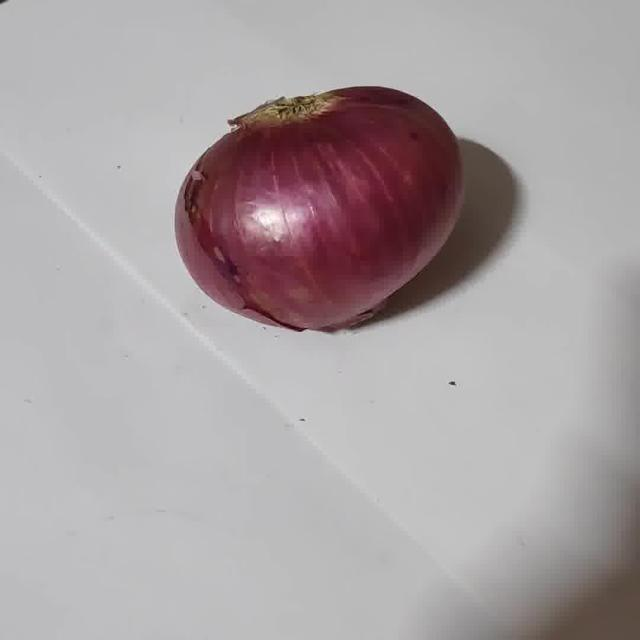Onion: (175, 87, 463, 331)
